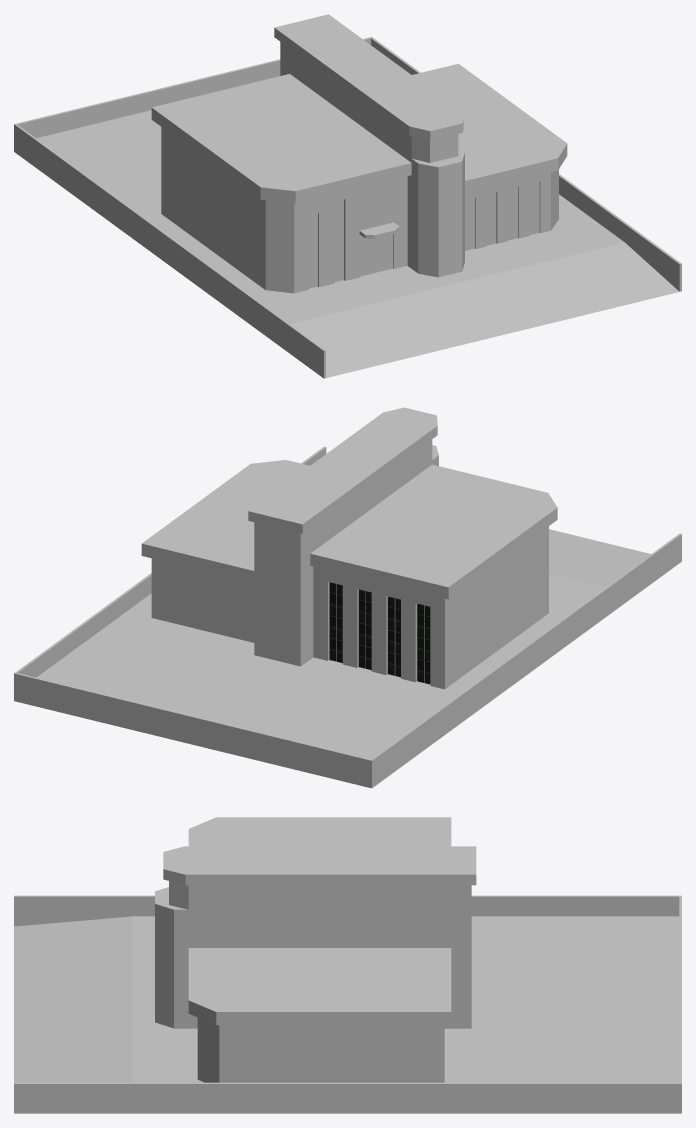
The picture shows the model from 3 angles, top to bottom: view 1: azimuth 30°, elevation 25°; view 2: azimuth 150°, elevation 25°; view 3: azimuth 270°, elevation 25°; orthographic projection. The views are drawn at different scales.
Visible parts, largest first — view 1: BB-044; view 2: BB-044; view 3: BB-044.
Part boxes in pixels (x1,y1,x2,y2): BB-044: [14, 14, 681, 378]; BB-044: [14, 407, 681, 788]; BB-044: [14, 817, 681, 1113].
Size of what is drawn, in the model's own units: 24 by 9.86 by 36.
